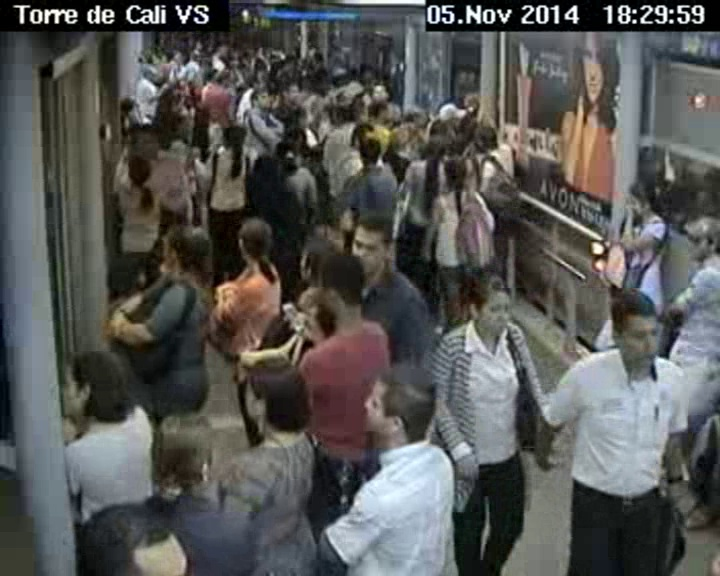person: (73, 500, 190, 576), (232, 353, 312, 445), (356, 355, 432, 443), (143, 409, 223, 489), (57, 348, 132, 422), (603, 289, 665, 369), (460, 261, 517, 336), (150, 220, 217, 281), (310, 250, 365, 317), (345, 208, 396, 270), (230, 209, 277, 269), (678, 213, 717, 269), (444, 153, 480, 193), (625, 179, 659, 220), (269, 137, 310, 166), (124, 121, 157, 156), (123, 151, 150, 190), (160, 108, 189, 143), (356, 133, 384, 169), (221, 120, 250, 151), (425, 127, 450, 162), (438, 102, 467, 131), (328, 90, 357, 115), (475, 125, 504, 147), (282, 79, 303, 106), (249, 86, 270, 111), (215, 68, 234, 92), (371, 76, 389, 100), (168, 47, 192, 65), (142, 65, 159, 82)
